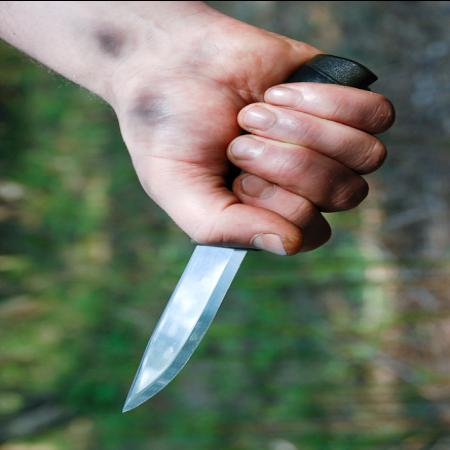long weapon: (110, 48, 388, 416)
